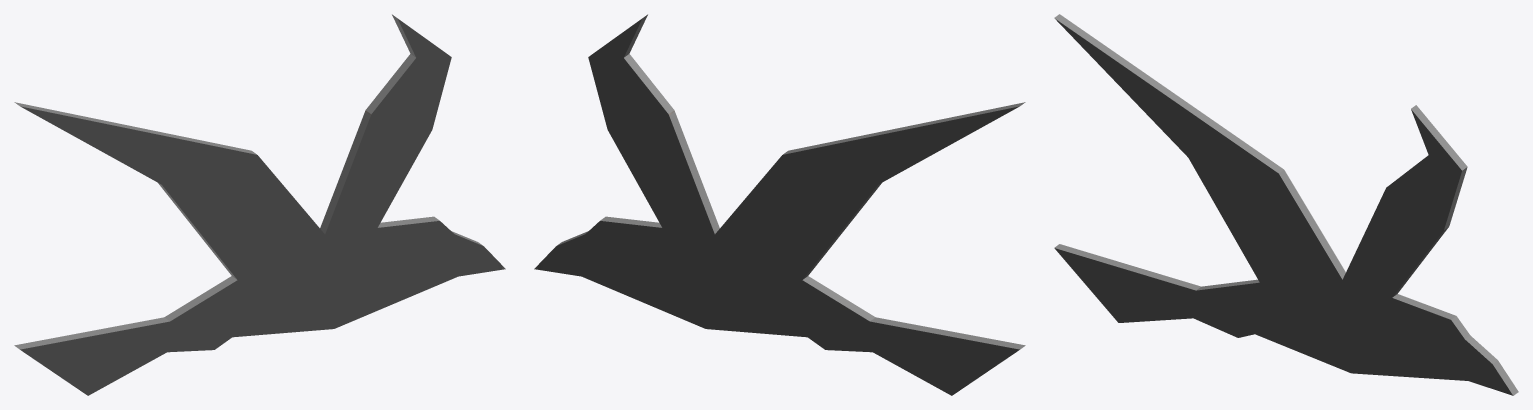
The model's file is SM_Seagull.fbx.
The picture shows the model from 3 angles, left to right: view 1: azimuth 30°, elevation 25°; view 2: azimuth 150°, elevation 25°; view 3: azimuth 330°, elevation 25°; orthographic projection. The views are drawn at different scales.
Visible parts, largest first — view 1: SM_Seagull; view 2: SM_Seagull; view 3: SM_Seagull.
Boxes of the visible parts, <box> form: SM_Seagull: <box>14,14,505,395</box>; SM_Seagull: <box>534,14,1025,395</box>; SM_Seagull: <box>1054,14,1518,395</box>.
Bounding box in the file's own units: 320 × 193 × 6.59.
